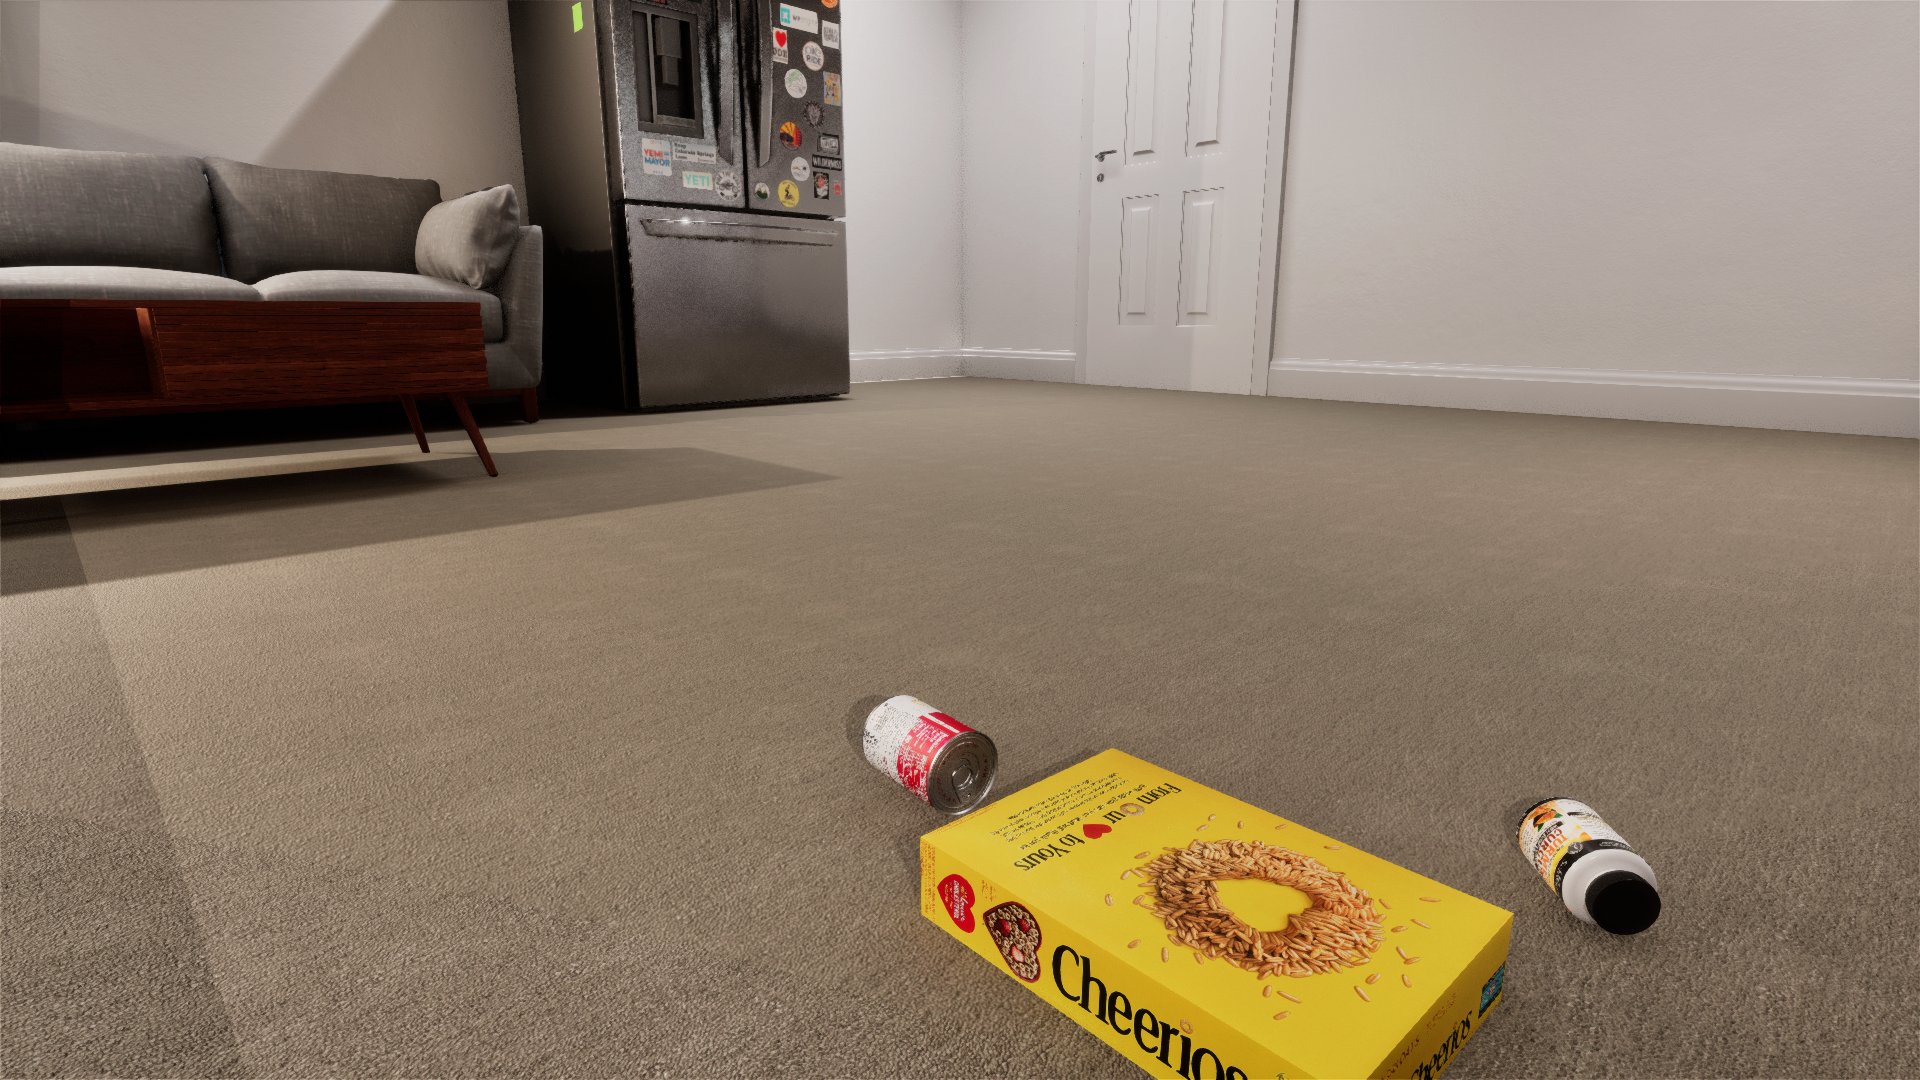cheerios: (1394, 189, 1497, 309)
soup: (1367, 272, 1411, 301)
